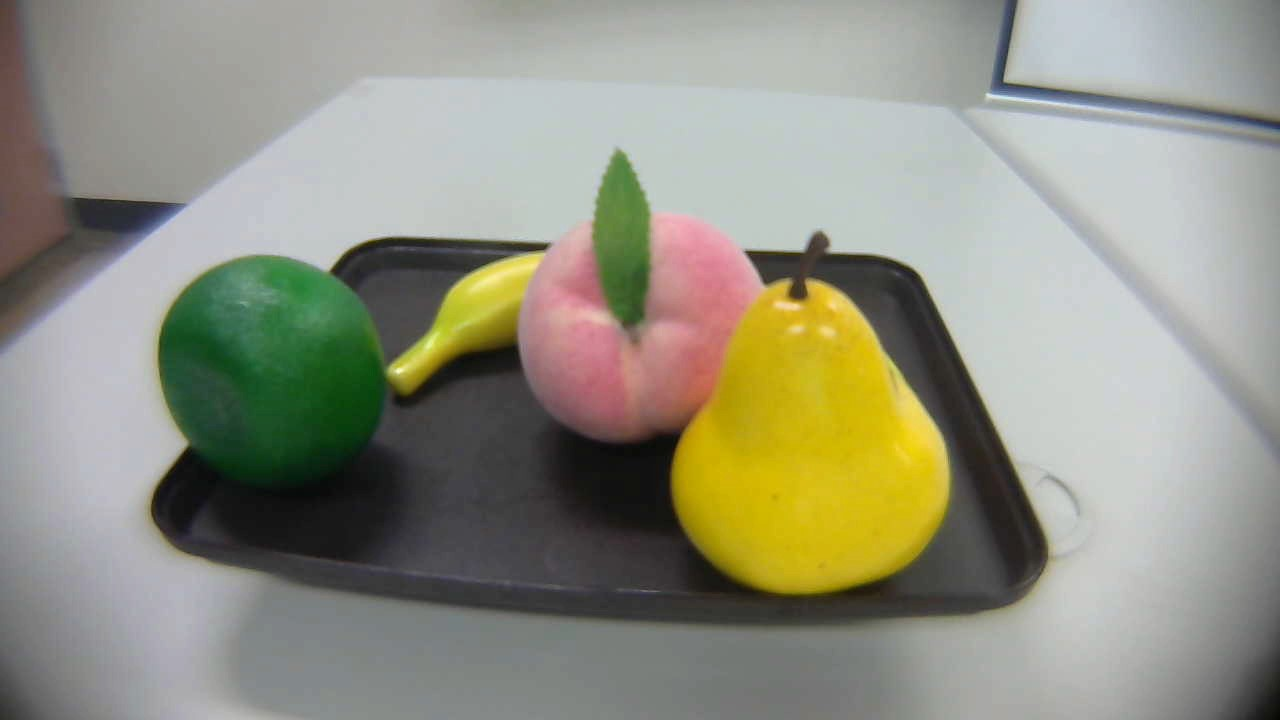banana: (374, 246, 564, 400)
green orange: (156, 252, 393, 502)
peach: (512, 151, 778, 441)
yellow pear: (666, 234, 968, 608)
